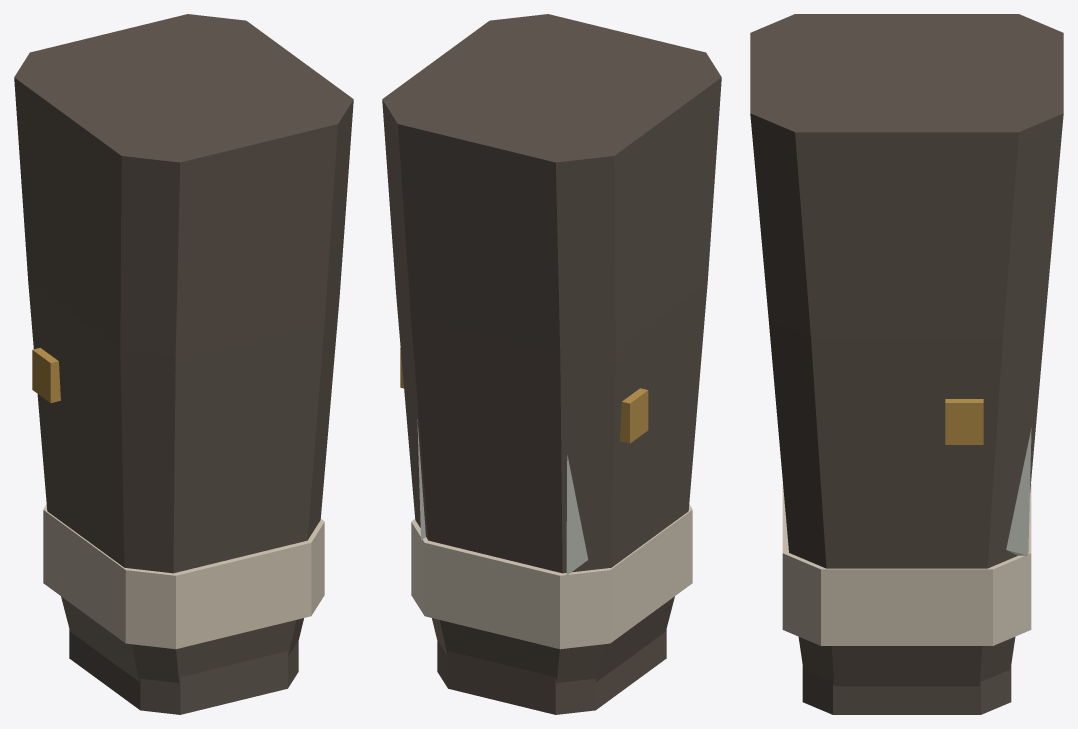
3 renders of one model, left to right at view 1: azimuth 30°, elevation 25°; view 2: azimuth 150°, elevation 25°; view 3: azimuth 270°, elevation 25°, orthographic. The views are drawn at different scales.
Parts seen in each view (by area): view 1: 现有程序大腿 · 同用途配色; view 2: 现有程序大腿 · 同用途配色; view 3: 现有程序大腿 · 同用途配色.
Part boxes in pixels (x1,y1,x2,y2): 现有程序大腿 · 同用途配色: (14,14,353,714); 现有程序大腿 · 同用途配色: (382,14,721,714); 现有程序大腿 · 同用途配色: (750,14,1063,714).
Size of the model in its own units: 0.182 by 0.432 by 0.204.
Materials: 4 (4 with a texture image).
